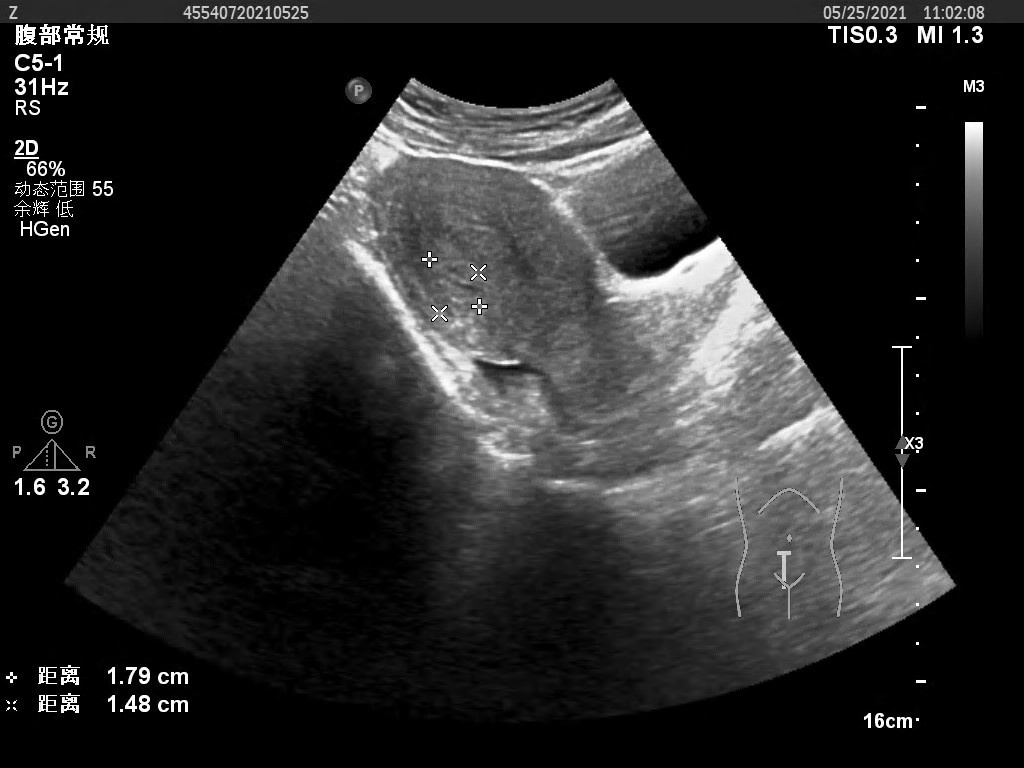肌瘤: (432, 270, 480, 316)
